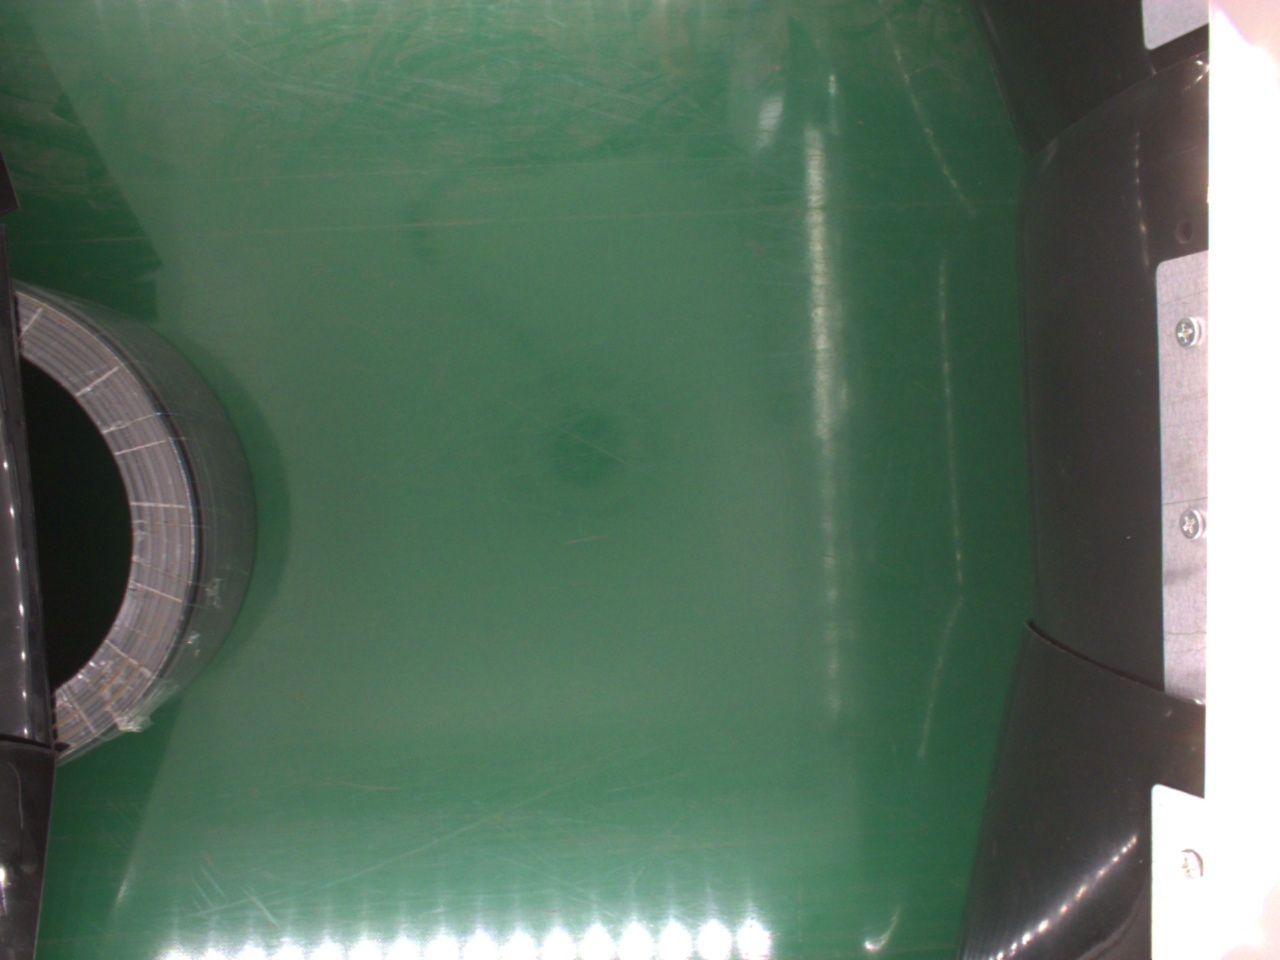black: (16, 284, 256, 763)
